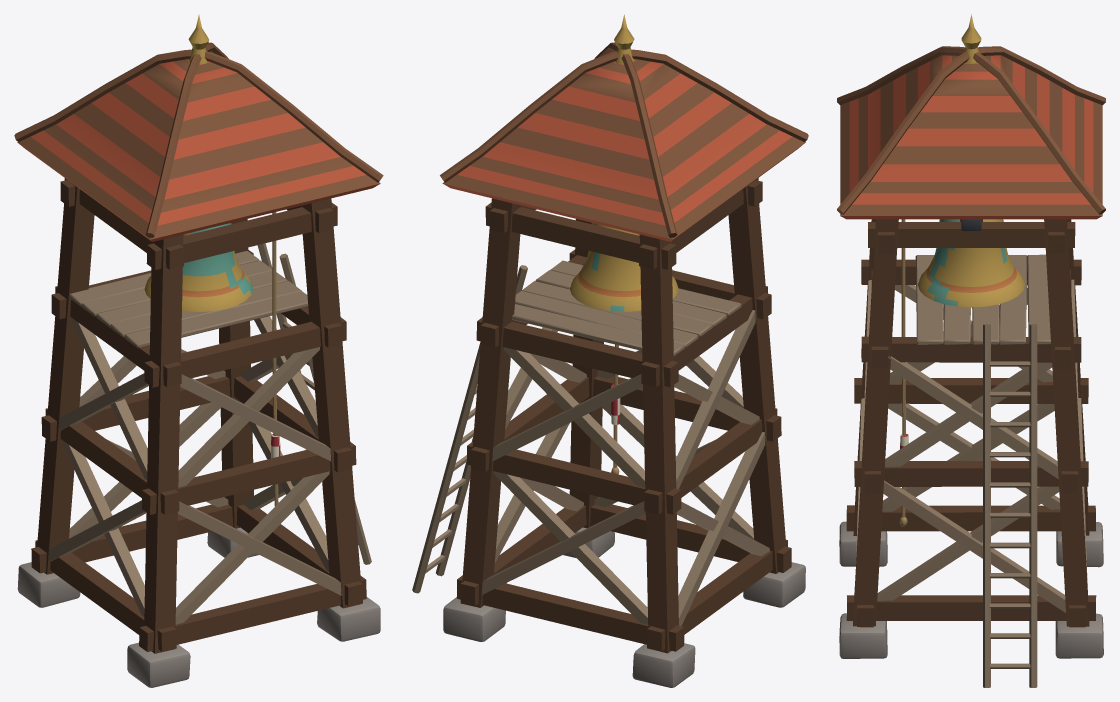
File: deco_bell_frame.fbx
The picture shows the model from 3 angles, left to right: view 1: azimuth 30°, elevation 25°; view 2: azimuth 150°, elevation 25°; view 3: azimuth 270°, elevation 25°; orthographic projection.
Parts seen in each view (by area): view 1: BellFrame_Tower, BellFrame_Roof, BellFrame_Bell, BellFrame_Rope; view 2: BellFrame_Tower, BellFrame_Roof, BellFrame_Bell; view 3: BellFrame_Tower, BellFrame_Roof, BellFrame_Bell, BellFrame_Rope.
Part boxes in pixels (x1=…): BellFrame_Tower: x1=17, y1=178, x2=380, y2=687; BellFrame_Roof: x1=14, y1=15, x2=383, y2=241; BellFrame_Bell: x1=144, y1=223, x2=253, y2=311; BellFrame_Rope: x1=271, y1=212, x2=280, y2=528; BellFrame_Tower: x1=412, y1=178, x2=805, y2=687; BellFrame_Roof: x1=440, y1=14, x2=808, y2=241; BellFrame_Bell: x1=570, y1=223, x2=678, y2=311; BellFrame_Tower: x1=839, y1=219, x2=1103, y2=687; BellFrame_Roof: x1=837, y1=14, x2=1105, y2=219; BellFrame_Bell: x1=918, y1=219, x2=1024, y2=307; BellFrame_Rope: x1=899, y1=219, x2=908, y2=526.
Bounding box in the file's own units: 329 × 632 × 261.
